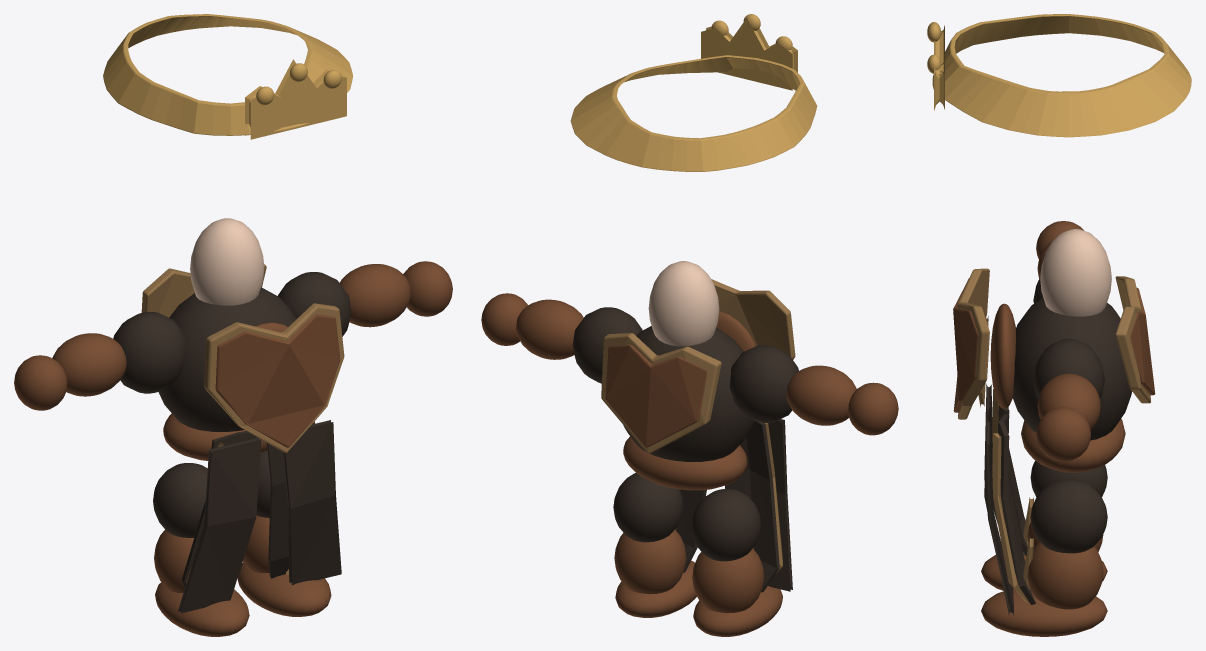
File: a_leather.glb
The picture shows the model from 3 angles, left to right: view 1: azimuth 30°, elevation 25°; view 2: azimuth 150°, elevation 25°; view 3: azimuth 270°, elevation 25°; orthographic projection. The views are drawn at different scales.
Parts seen in each view (by area): view 1: TLL_head_delivery, TLL_chest_delivery, R2_Chest shaped enamel_delivery, Split navy coat_delivery, Split navy coat.001_delivery, TLL_hips_delivery, Articulated undersleeve_delivery, TLL_lowerarmr_delivery, TLL_lowerarml_delivery, TLL_upperlegr_delivery, R2_Chest silver chassis_delivery, TLL_footl_delivery (+8 smaller); view 2: TLL_head_delivery, TLL_chest_delivery, TLL_hips_delivery, R2_Back blue shell_delivery, Articulated undersleeve_delivery, TLL_upperlegr_delivery, TLL_upperlegl_delivery, TLL_lowerlegl_delivery, TLL_lowerlegr_delivery, R2_Chest silver chassis_delivery, TLL_lowerarmr_delivery, TLL_lowerarml_delivery (+7 smaller); view 3: TLL_head_delivery, TLL_chest_delivery, TLL_hips_delivery, TLL_upperlegl_delivery, TLL_lowerlegl_delivery, TLL_footl_delivery, Articulated undersleeve.001_delivery, R2_Chest silver chassis_delivery, TLL_handl_delivery, TLL_lowerarml_delivery, R2_Back silver chassis_delivery, R2_Chest shaped enamel_delivery (+7 smaller).
Boxes of the visible parts, x1=… form: TLL_head_delivery: x1=103, y1=14, x2=352, y2=139; TLL_chest_delivery: x1=158, y1=218, x2=296, y2=431; R2_Chest shaped enamel_delivery: x1=215, y1=314, x2=340, y2=447; Split navy coat_delivery: x1=178, y1=438, x2=261, y2=613; Split navy coat.001_delivery: x1=283, y1=420, x2=341, y2=585; TLL_hips_delivery: x1=163, y1=413, x2=314, y2=588; Articulated undersleeve_delivery: x1=113, y1=312, x2=186, y2=393; TLL_lowerarmr_delivery: x1=52, y1=333, x2=126, y2=396; TLL_lowerarml_delivery: x1=340, y1=264, x2=410, y2=327; TLL_upperlegr_delivery: x1=153, y1=463, x2=207, y2=537; R2_Chest silver chassis_delivery: x1=204, y1=303, x2=344, y2=452; TLL_footl_delivery: x1=237, y1=562, x2=331, y2=616; TLL_head_delivery: x1=570, y1=14, x2=817, y2=171; TLL_chest_delivery: x1=623, y1=261, x2=755, y2=461; TLL_hips_delivery: x1=623, y1=421, x2=782, y2=592; R2_Back blue shell_delivery: x1=605, y1=344, x2=707, y2=447; Articulated undersleeve_delivery: x1=729, y1=345, x2=798, y2=422; TLL_upperlegr_delivery: x1=691, y1=489, x2=761, y2=561; TLL_upperlegl_delivery: x1=613, y1=472, x2=683, y2=542; TLL_lowerlegl_delivery: x1=614, y1=528, x2=686, y2=594; TLL_lowerlegr_delivery: x1=692, y1=547, x2=764, y2=613; R2_Chest silver chassis_delivery: x1=711, y1=279, x2=795, y2=359; TLL_lowerarmr_delivery: x1=786, y1=365, x2=856, y2=425; TLL_lowerarml_delivery: x1=516, y1=299, x2=583, y2=359; TLL_head_delivery: x1=927, y1=14, x2=1191, y2=137; TLL_chest_delivery: x1=978, y1=229, x2=1132, y2=440; TLL_hips_delivery: x1=992, y1=389, x2=1125, y2=604; TLL_upperlegl_delivery: x1=1030, y1=479, x2=1107, y2=553; TLL_lowerlegl_delivery: x1=1023, y1=537, x2=1103, y2=609; TLL_footl_delivery: x1=981, y1=588, x2=1107, y2=636; Articulated undersleeve.001_delivery: x1=1033, y1=338, x2=1104, y2=399; R2_Chest silver chassis_delivery: x1=957, y1=268, x2=989, y2=419; TLL_handl_delivery: x1=1036, y1=407, x2=1090, y2=461; TLL_lowerarml_delivery: x1=1037, y1=373, x2=1100, y2=429; R2_Back silver chassis_delivery: x1=1115, y1=276, x2=1150, y2=403; R2_Chest shaped enamel_delivery: x1=953, y1=278, x2=978, y2=412.
Size of the model in its own units: 1.79 by 2.35 by 0.9599.
